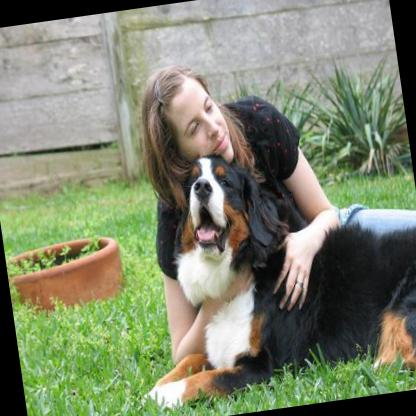Bernese_mountain_dog: (111, 122, 416, 416)
